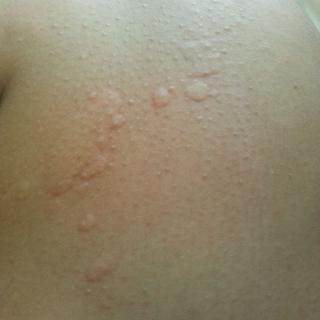urticaria: (86, 78, 136, 130)
